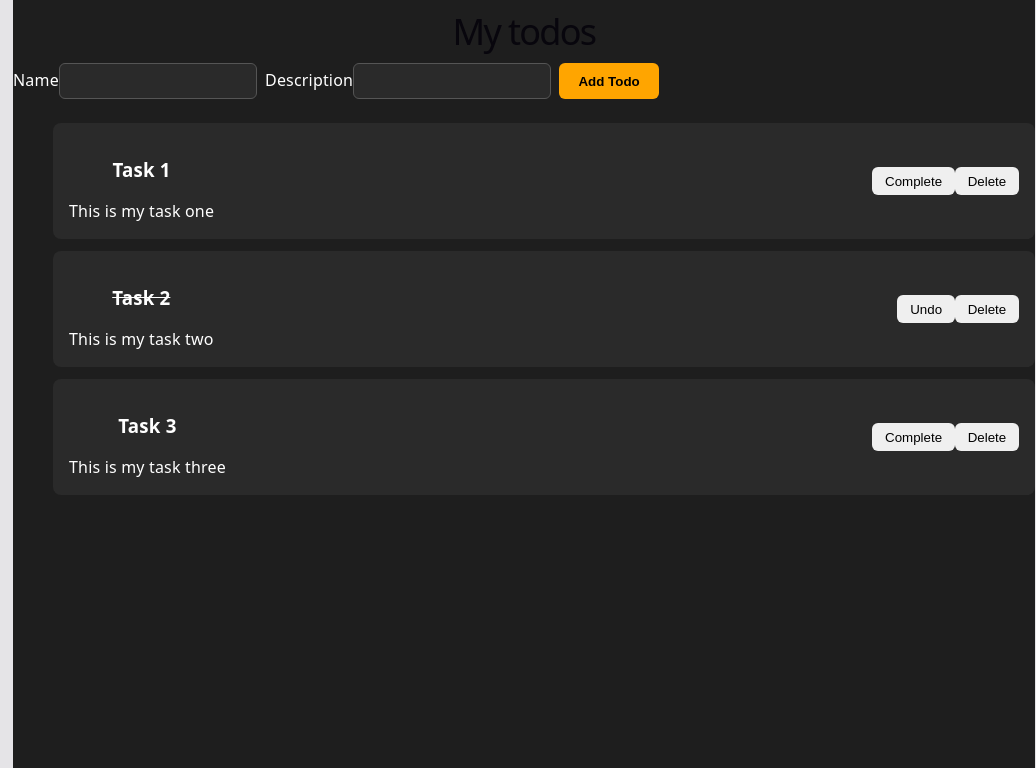
Test: App (integration) › Add new task and show in the list
This screenshot has width=1036, height=768.
In the field labelled "Name": [158, 81] box 59,63 -> 257,99, type "Buy milk"
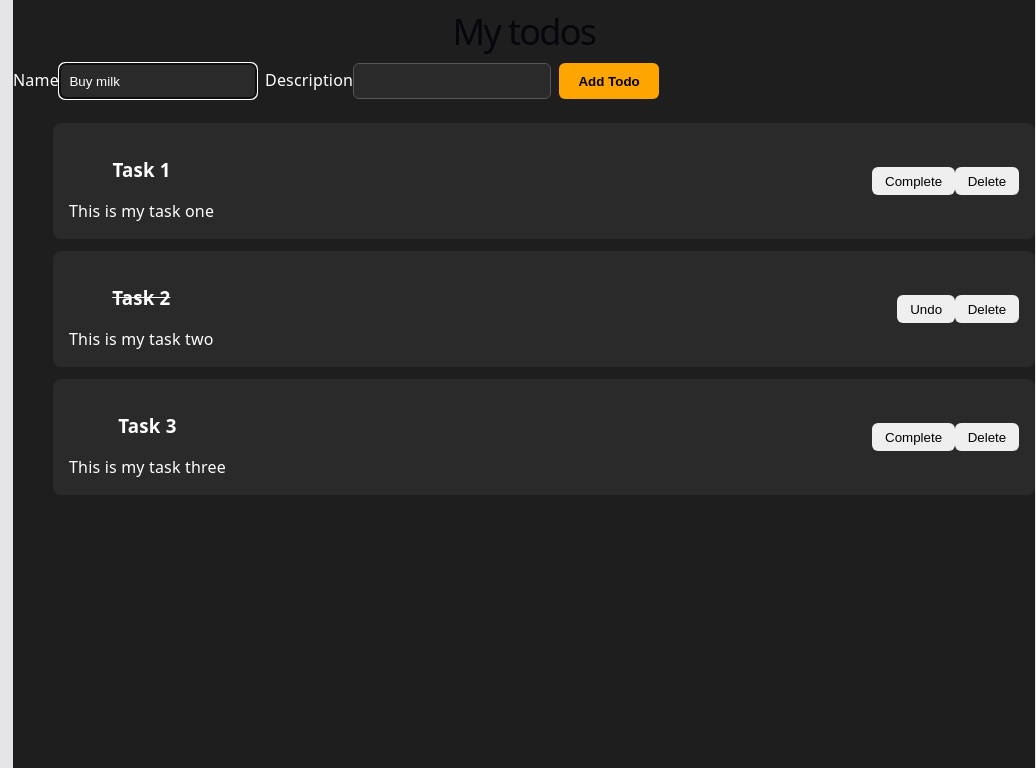
In the field labelled "Description": [452, 81] box 353,63 -> 551,99, type "Get 2L milk"
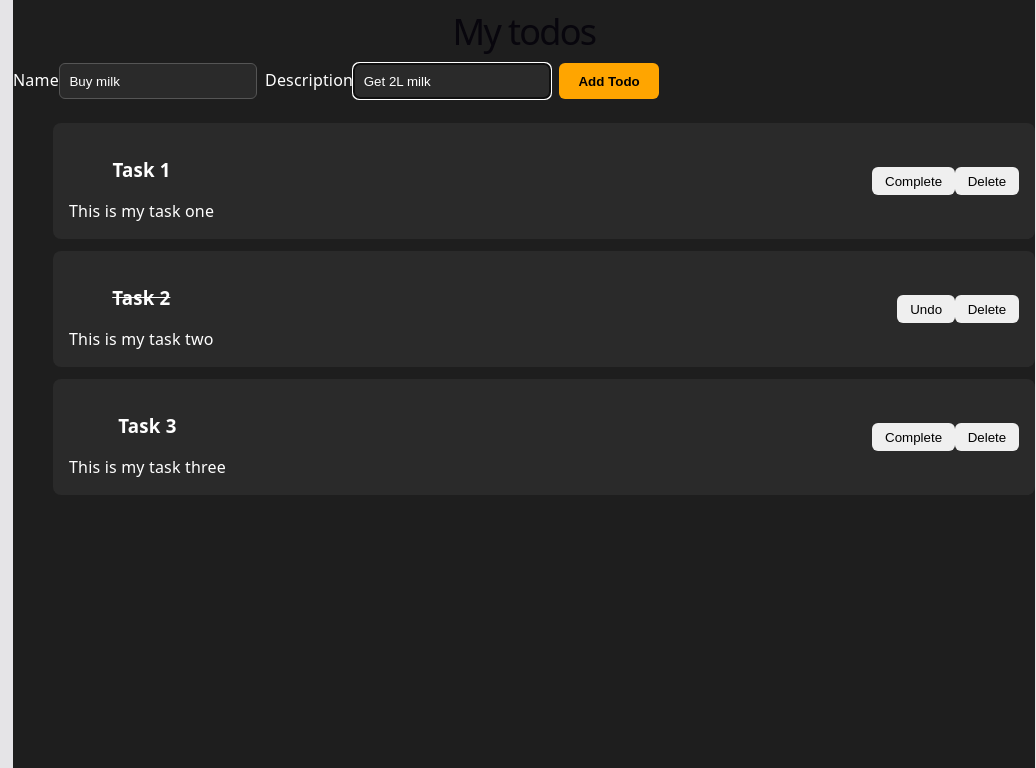
Click the button "Add Todo": [609, 81] box 559,63 -> 659,99
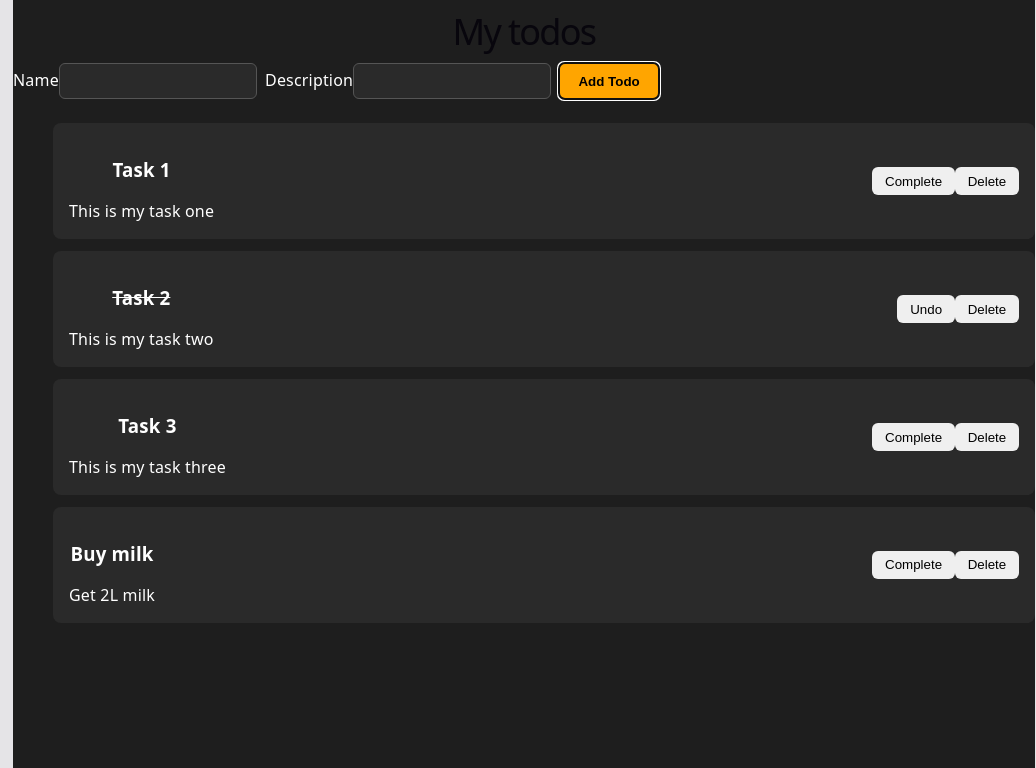
expect the heading "Buy milk" is shown: met, box 69,542 -> 155,565
expect the text "Get 2L milk" is shown: met, box 69,584 -> 155,607
